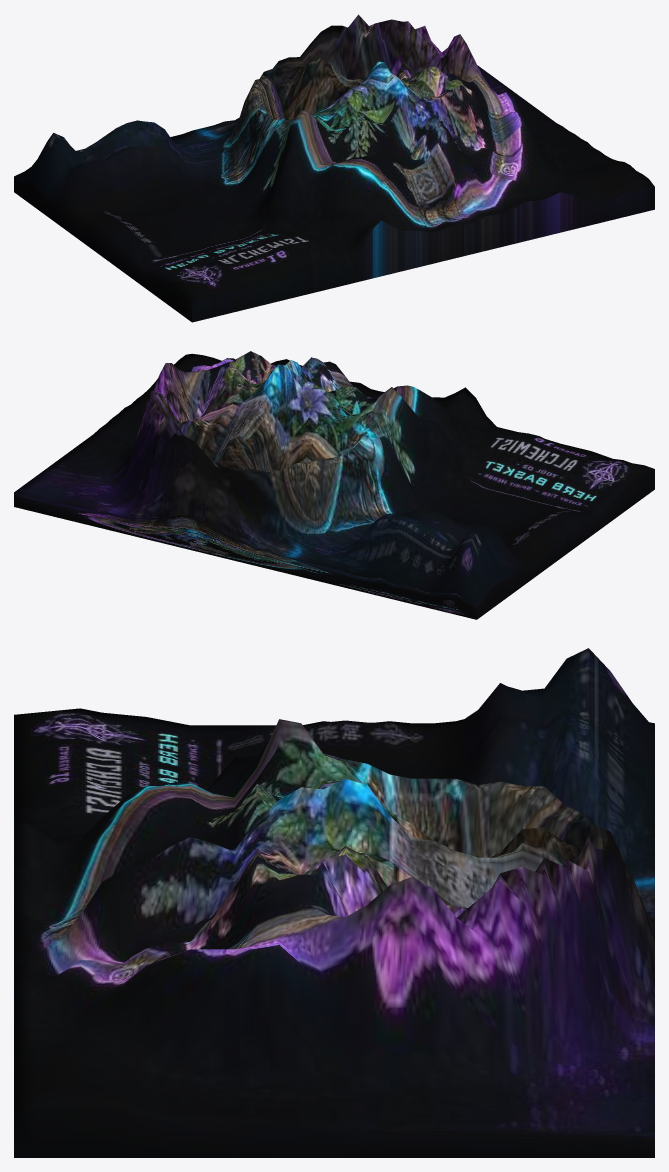
Rendered from CAREER_16_Tool_02_Herb_Basket.glb.
3 views of the same model, one above another, from view 1: azimuth 30°, elevation 25°; view 2: azimuth 150°, elevation 25°; view 3: azimuth 270°, elevation 25° (orthographic). The views are drawn at different scales.
Visible parts, largest first — view 1: CAREER_16_Tool_02_Herb_Basket; view 2: CAREER_16_Tool_02_Herb_Basket; view 3: CAREER_16_Tool_02_Herb_Basket.
Boxes of the visible parts, x1=… form: CAREER_16_Tool_02_Herb_Basket: x1=14, y1=14, x2=654, y2=322; CAREER_16_Tool_02_Herb_Basket: x1=14, y1=351, x2=654, y2=619; CAREER_16_Tool_02_Herb_Basket: x1=14, y1=648, x2=654, y2=1157.
Bounding box in the file's own units: 2 × 0.51 × 1.33.
Materials: 1 (1 with a texture image).
